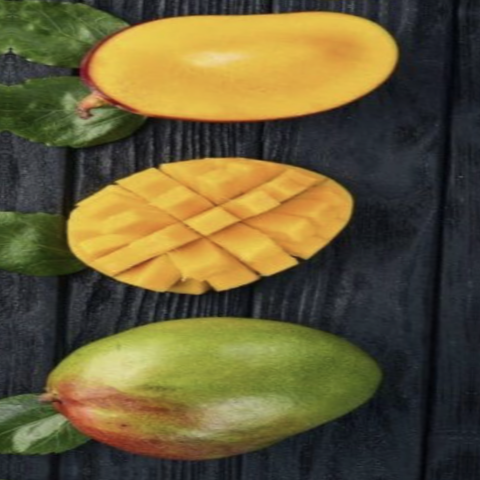mango: (23, 298, 401, 477), (61, 145, 406, 313), (58, 0, 409, 147)
